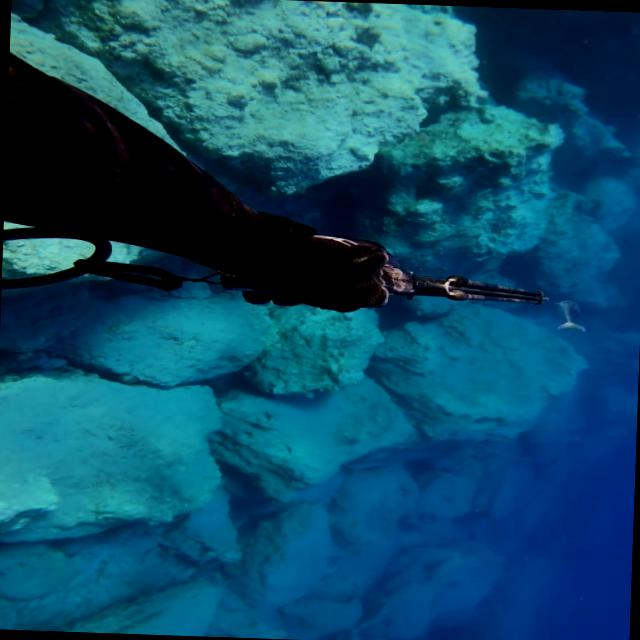Balon Baligi: (552, 298, 586, 330)
